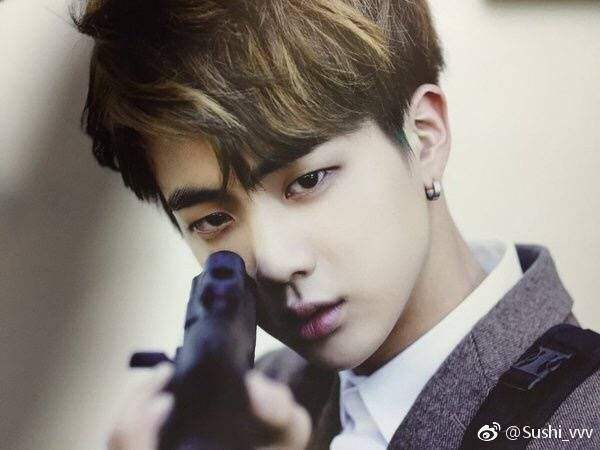person: (70, 3, 537, 427)
